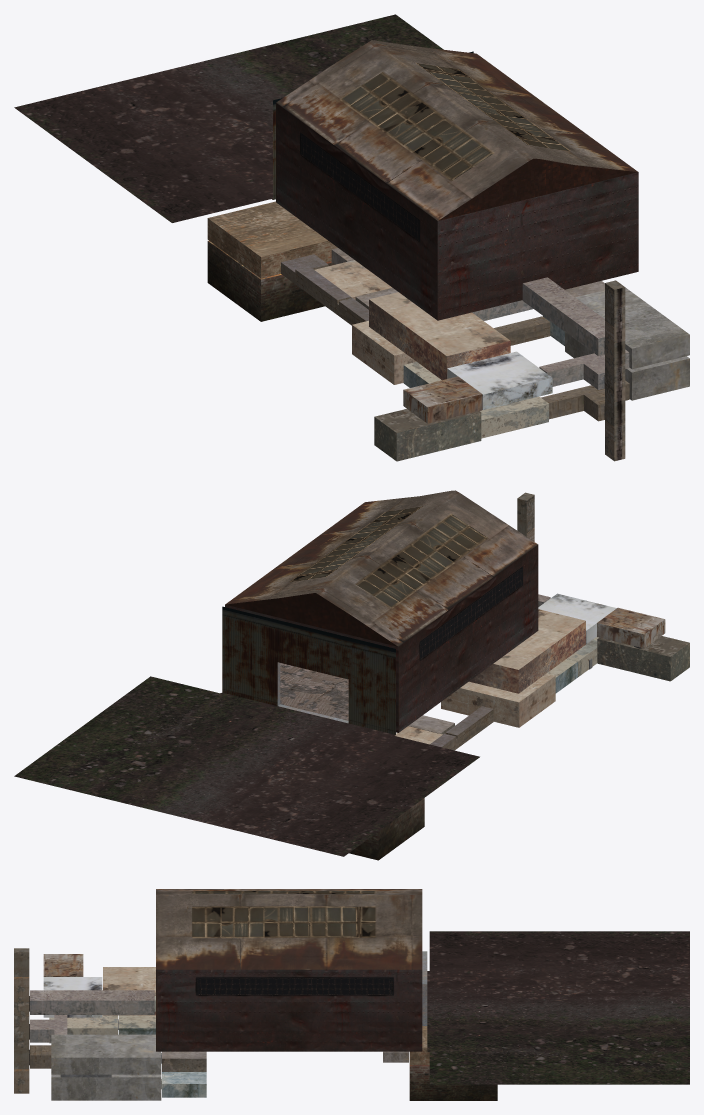
File: scene 3 complete.fbx
3 renders of one model, top to bottom at view 1: azimuth 30°, elevation 25°; view 2: azimuth 150°, elevation 25°; view 3: azimuth 270°, elevation 25°, orthographic. The views are drawn at different scales.
Visible parts, largest first — view 1: r_warehouse, o_outside_area, r_engine, r_sewer, r_sewer_below, r_bath, r_b1_storage, r_elevator_gap, r_security, w_warehouse, r_control, r_b2_storage (+7 smaller); view 2: o_outside_area, r_warehouse, o_warehouse_wall, r_engine, r_workshop, r_bath, r_control, r_sewer_below, r_security, w_workshop, r_elevator_gap, r_prep (+1 smaller); view 3: r_warehouse, o_outside_area, r_b1_storage, w_warehouse, r_b2_storage, r_elevator_gap, r_sewer_below, r_engine, r_blank, r_security, r_locker, r_account (+6 smaller).
Part boxes in pixels (box(x1,y1,x2,y2)): r_warehouse: box(276, 40, 638, 320); o_outside_area: box(14, 14, 443, 222); r_engine: box(369, 292, 510, 380); r_sewer: box(207, 201, 337, 278); r_sewer_below: box(207, 241, 334, 321); r_bath: box(374, 409, 481, 461); r_b1_storage: box(575, 287, 689, 369); r_elevator_gap: box(605, 280, 625, 461); r_security: box(447, 351, 552, 409); w_warehouse: box(522, 277, 604, 355); r_control: box(403, 376, 482, 423); r_b2_storage: box(565, 332, 689, 400); o_outside_area: box(14, 676, 479, 856); r_warehouse: box(225, 490, 538, 732); o_warehouse_wall: box(222, 606, 395, 734); r_engine: box(469, 609, 585, 693); r_workshop: box(441, 673, 555, 727); r_bath: box(597, 636, 689, 681); r_control: box(597, 607, 665, 648); r_sewer_below: box(349, 798, 424, 860); r_security: box(538, 593, 616, 644); w_workshop: box(445, 706, 493, 747); r_elevator_gap: box(517, 492, 534, 541); r_prep: box(547, 659, 577, 693); r_warehouse: box(156, 889, 422, 1051); o_outside_area: box(427, 931, 689, 1084); r_b1_storage: box(51, 1034, 161, 1074); w_warehouse: box(30, 990, 154, 1014); r_b2_storage: box(51, 1074, 161, 1100); r_elevator_gap: box(14, 948, 29, 1093); r_sewer_below: box(409, 1066, 497, 1100); r_engine: box(103, 967, 155, 1015); r_blank: box(162, 1072, 206, 1097); r_security: box(43, 977, 102, 1017); r_locker: box(49, 1015, 117, 1043); r_account: box(162, 1051, 206, 1071).
Size of the model in its own units: 157 by 94.84 by 285.
22 materials, 22 textured.
